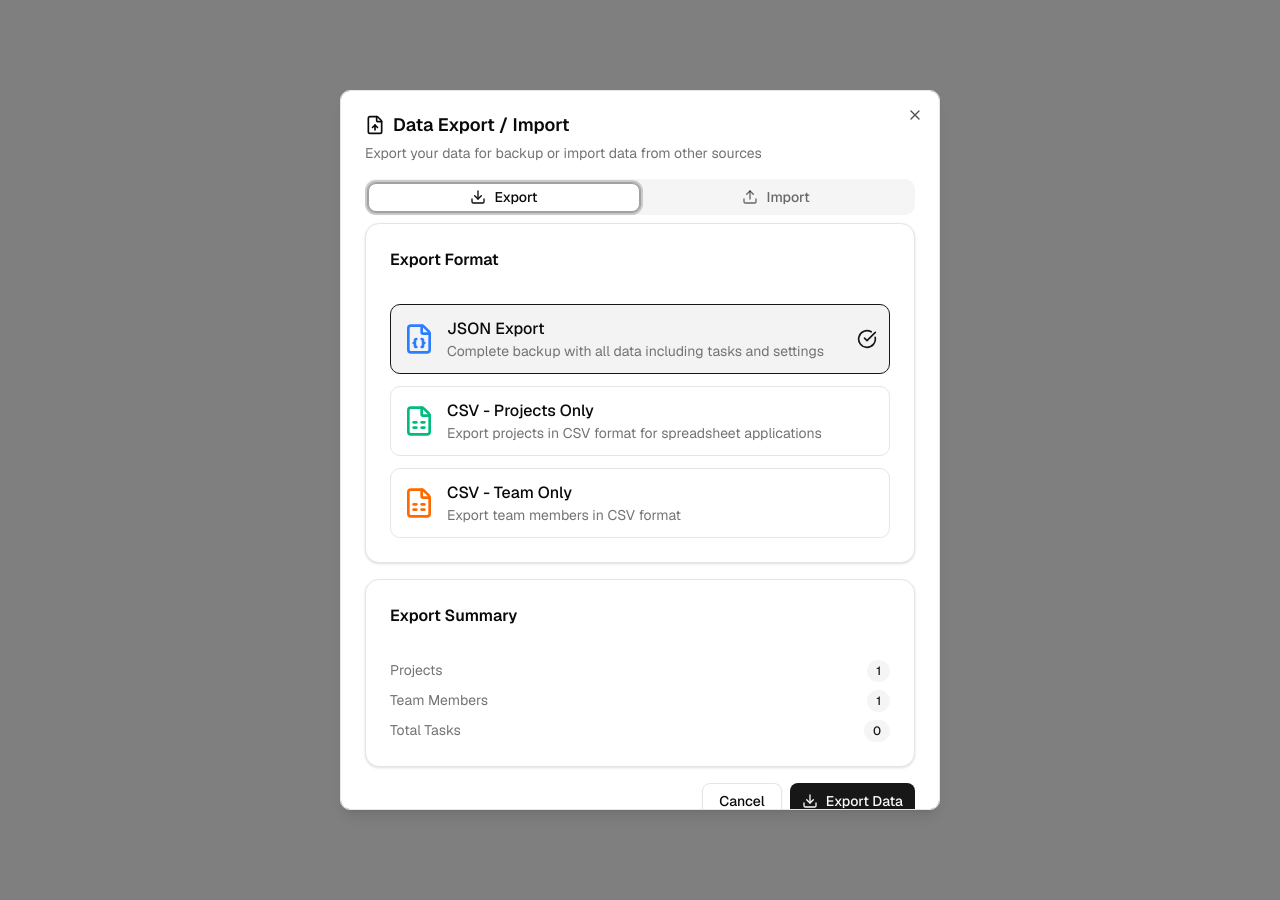
DataExportImportDialog › displays progress bar during export
Click the button "Export Data".
click(852, 801)  # box [790, 783, 915, 819]
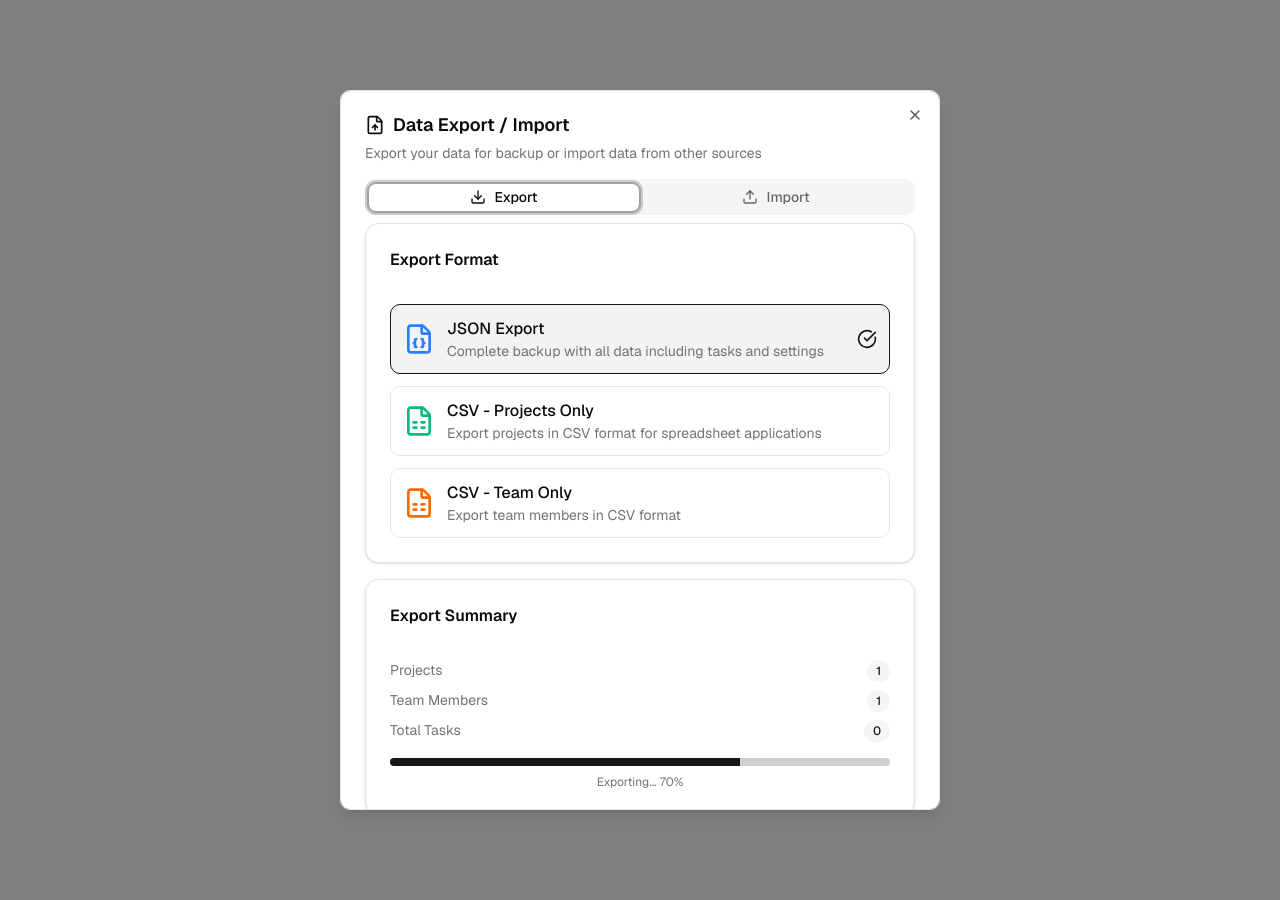
Expected: the progress indicator is shown, [390, 758, 890, 766]
